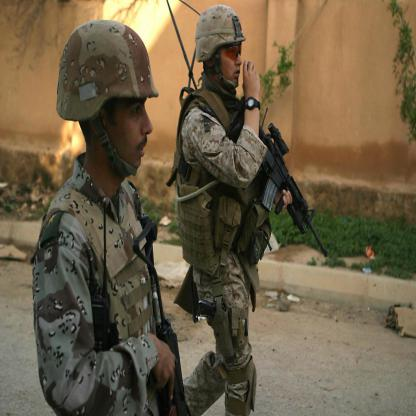face: (110, 73, 154, 168), (218, 30, 244, 89)
